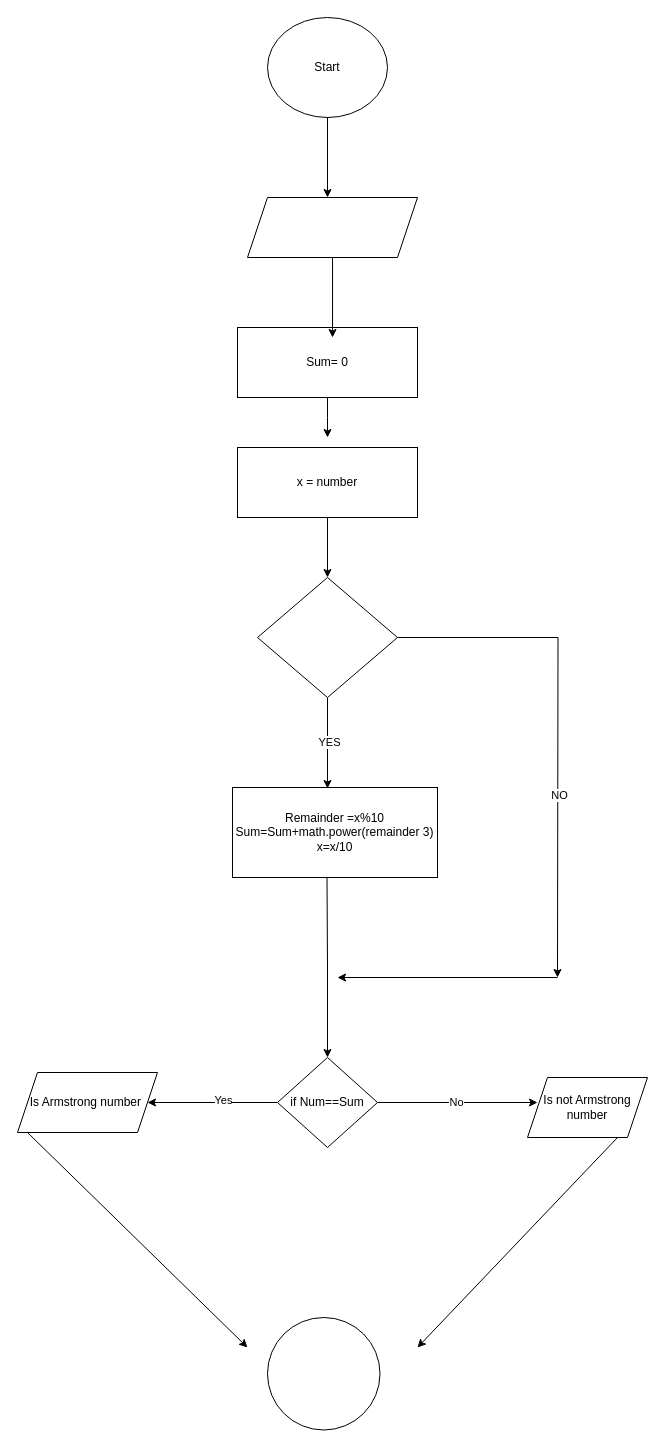
This 665x1448 diagram has some shape labels left out. The shapes that lost their labels are listed below. From the top down, each one's box as (x1, y1, x2, y2) in pixels, then its label:
(246, 196, 418, 258): Input the number
(256, 576, 398, 698): if(x!=0)
(266, 1316, 380, 1430): End
